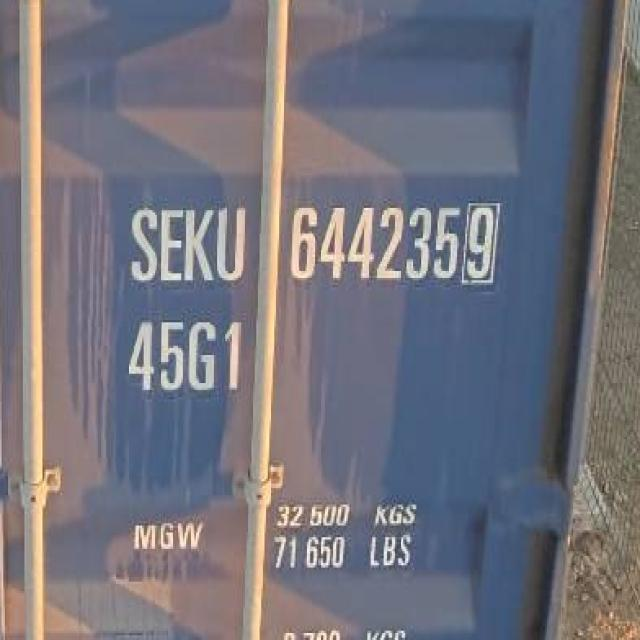dv: (461, 197, 505, 291)
owner: (118, 192, 254, 294)
serial: (282, 189, 459, 295)
size: (111, 305, 254, 405)
